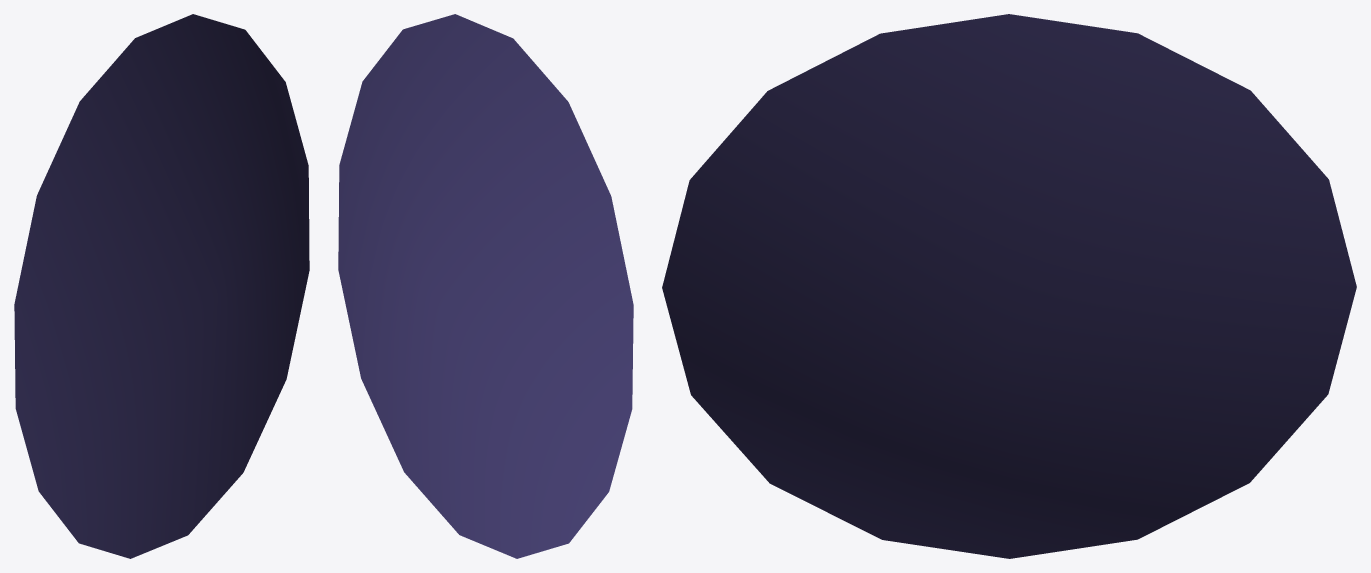
File: Sight_12_Glass.fbx
3 views of the same model, side by side, from view 1: azimuth 30°, elevation 25°; view 2: azimuth 150°, elevation 25°; view 3: azimuth 270°, elevation 25° (orthographic). The views are drawn at different scales.
Parts seen in each view (by area): view 1: Sight_12_Glass; view 2: Sight_12_Glass; view 3: Sight_12_Glass.
Boxes of the visible parts, x1,y1,x2,y2 form: Sight_12_Glass: (14, 14, 309, 558); Sight_12_Glass: (338, 14, 633, 558); Sight_12_Glass: (662, 14, 1356, 558).
Bounding box in the file's own units: 1.63 × 4.44 × 4.25.
